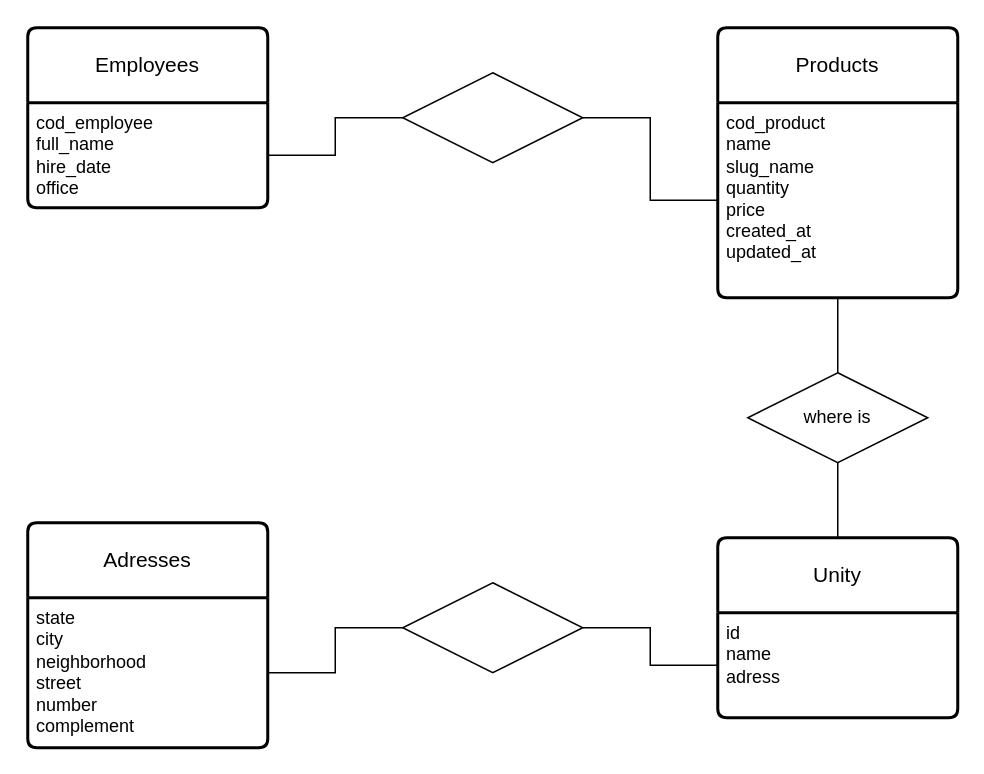
Some shapes in this 984 by 774 pixel diagram are drawn without their labels. The shapes that lost their labels are listed below. From the top down, each one's centre as x and y in pixels, then its label:
At (492,117): "consult".
At (492,627): "has".
